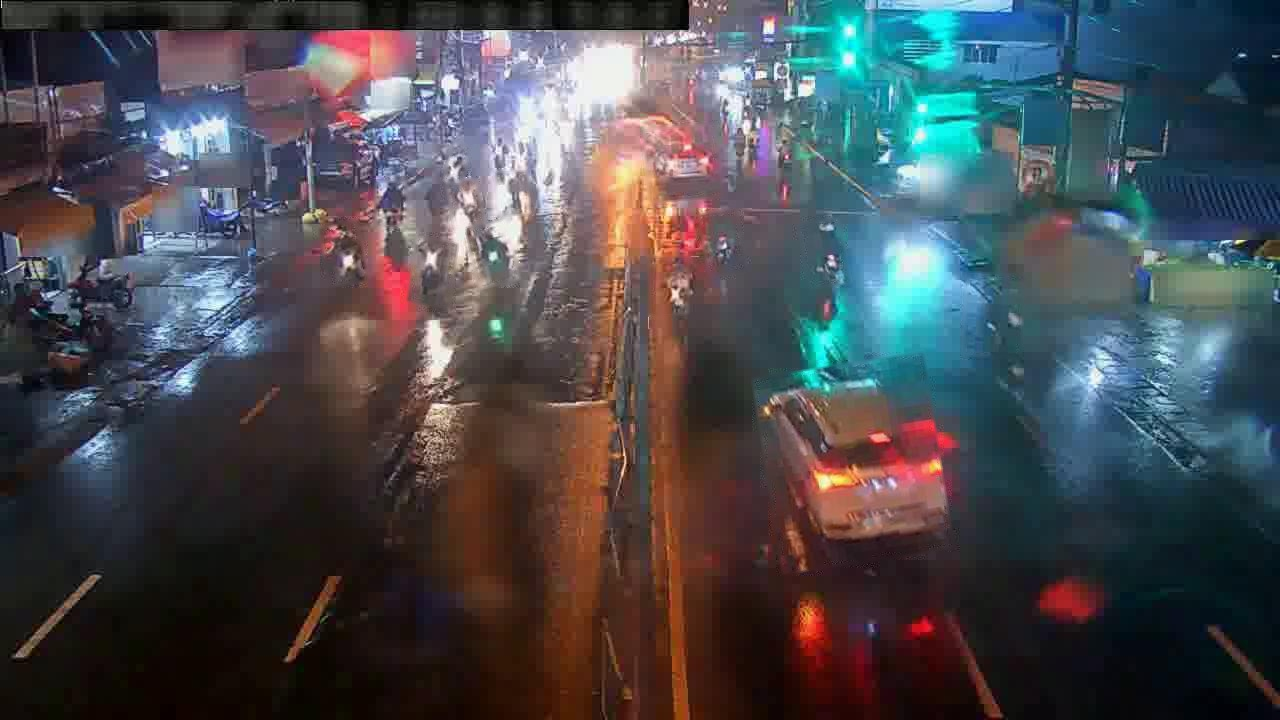Car: (762, 361, 949, 543), (646, 119, 718, 203), (326, 232, 365, 279), (377, 159, 407, 191)
Motorcyclist: (968, 273, 1027, 362), (69, 259, 132, 309), (656, 256, 695, 332), (468, 224, 512, 286), (416, 242, 456, 307), (701, 214, 745, 273), (815, 217, 844, 286), (502, 172, 533, 219), (452, 178, 482, 224), (378, 182, 405, 227), (446, 148, 469, 184)
